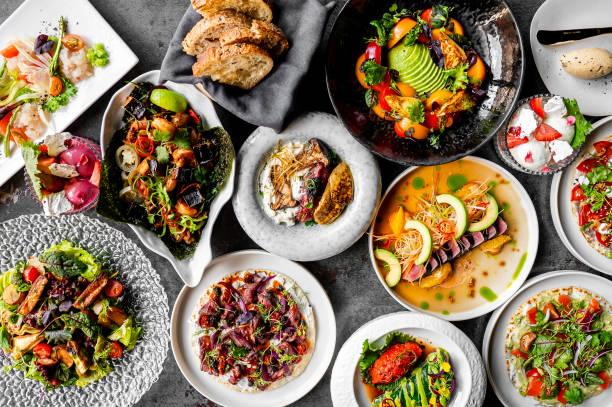Braised Crucian Carp: (322, 1, 516, 168), (1, 214, 169, 406), (370, 155, 535, 317), (168, 248, 330, 406), (232, 110, 375, 263), (484, 270, 611, 404), (332, 311, 488, 405)
